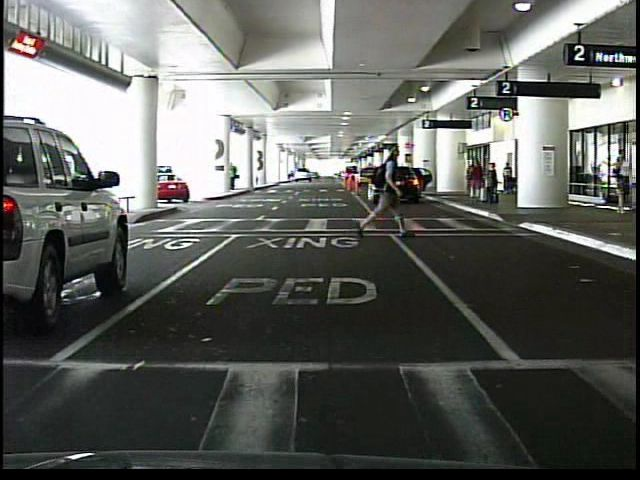person: (359, 146, 417, 239), (463, 159, 486, 203), (613, 150, 628, 214), (486, 162, 500, 204), (503, 163, 513, 192), (230, 164, 240, 192)
